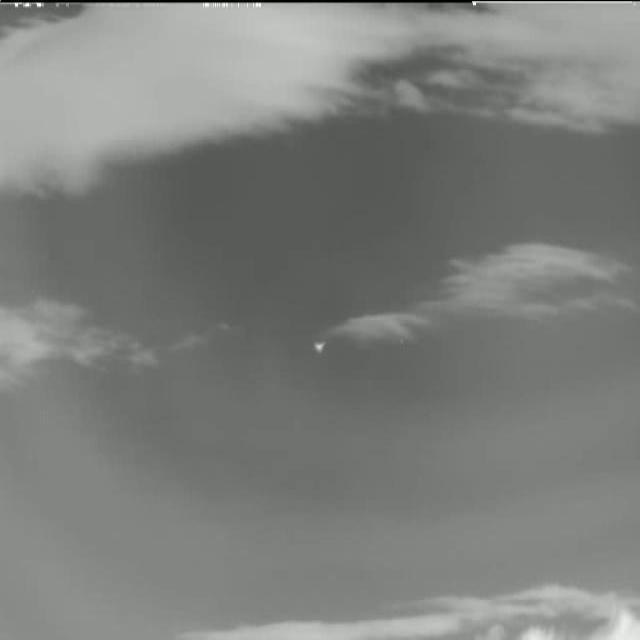drone: (314, 338, 328, 354)
